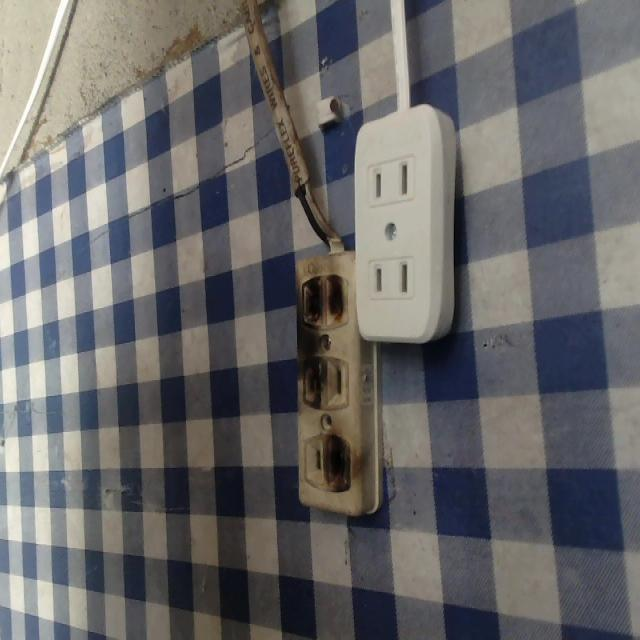-: (299, 272, 351, 329), (322, 429, 353, 494), (295, 354, 326, 414)
